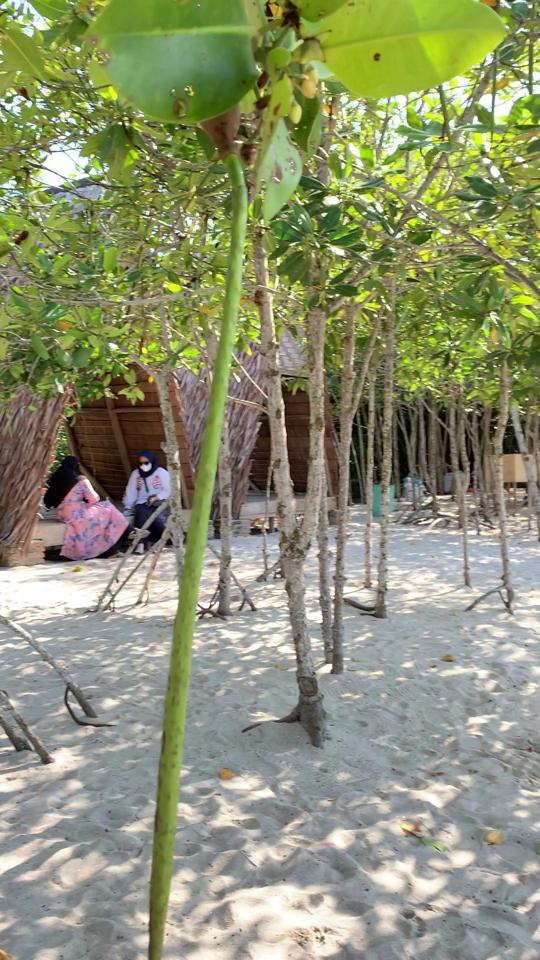mentah: (134, 85, 265, 955)
